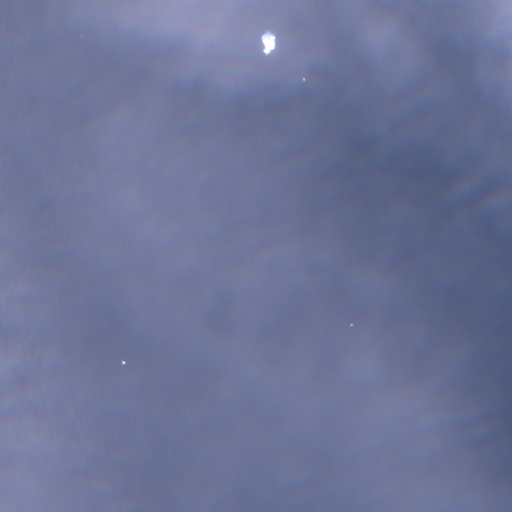Iceberg: (261, 30, 275, 54), (122, 361, 125, 364), (350, 323, 353, 325), (303, 77, 304, 80)
